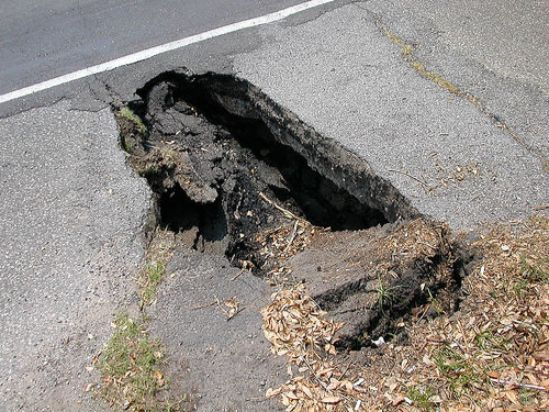pothole: (106, 65, 471, 357)
